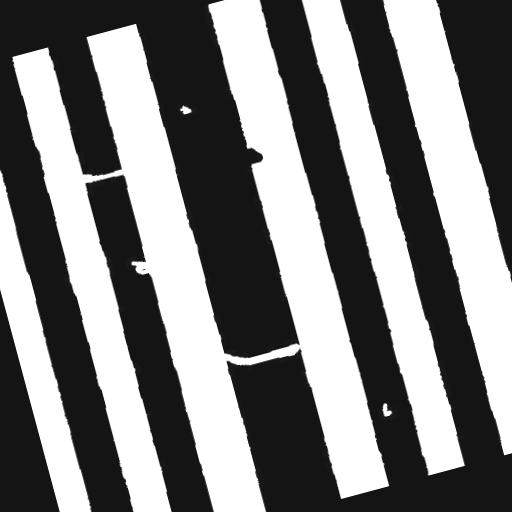mousebite: (120, 248, 158, 285)
open: (212, 324, 311, 382), (69, 152, 135, 194)
pin-hole: (168, 94, 200, 124), (372, 392, 400, 425)
spur: (233, 136, 272, 174)
